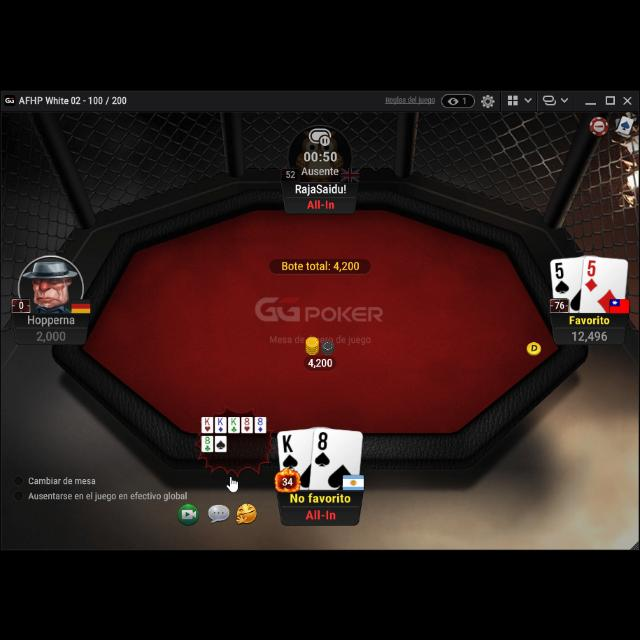5d: (584, 258, 598, 294)
5s: (552, 258, 572, 294)
8s: (312, 427, 333, 467)
Ks: (280, 431, 302, 472)
all_in_symbol: (304, 506, 338, 522), (306, 197, 336, 210)
bet_text: (306, 354, 334, 368)
dealer: (524, 337, 544, 355)
pot_text: (280, 259, 360, 269)
stack_text: (571, 328, 609, 342), (34, 328, 66, 342)
